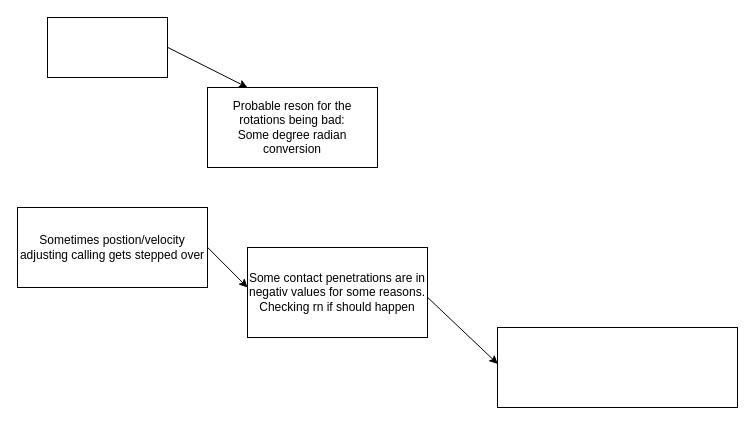
This 755x425 diagram has some shape labels left out. Each missing label, with the centre of its shape:
Inertia tensor has nothing to do with rotations directly: pixel 107 47
Post "apply___" code changes penetration and other paramters, looking into it.: pixel 617 367
